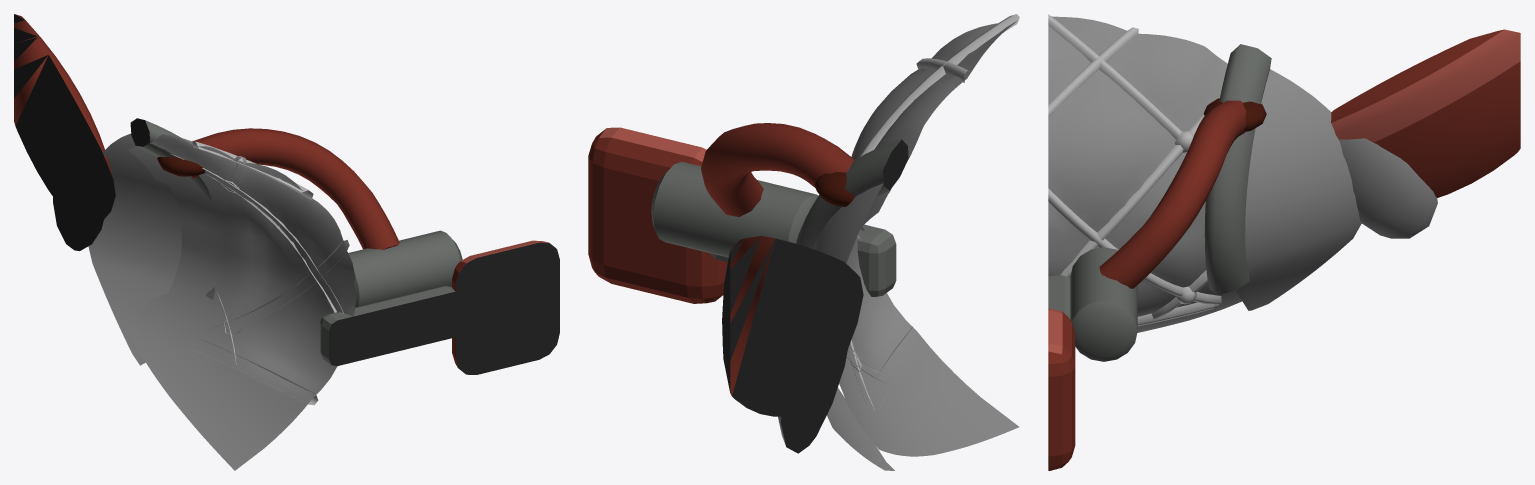
File: zeppelin_45.glb
3 views of the same model, side by side, from view 1: azimuth 30°, elevation 25°; view 2: azimuth 150°, elevation 25°; view 3: azimuth 270°, elevation 25° (orthographic). The views are drawn at different scales.
Parts seen in each view (by area): view 1: envelope.001, gun_mount_r.001, cowl.001, duct.001, gun_hose_r.001, gun_strut_r.001, gun_cap_r.001, duct_boot_r.001, net_ropes.001, cowl_rim.001, gun_hose_collar_r.001; view 2: envelope.001, duct.001, gun_mount_r.001, gun_cap_r.001, gun_hose_r.001, duct_boot_r.001, cowl.001, cowl_rim.001, net_ropes.001, gun_strut_r.001, gun_hose_collar_r.001; view 3: envelope.001, duct.001, cowl.001, gun_hose_r.001, cowl_rim.001, net_ropes.001, duct_boot_r.001, gun_cap_r.001, gun_mount_r.001, gun_strut_r.001, net_load.001, gun_hose_collar_r.001 (+1 smaller).
Boxes of the visible parts, bbox=[...] form: envelope.001: bbox=[128, 134, 355, 470]; gun_mount_r.001: bbox=[452, 240, 559, 374]; cowl.001: bbox=[88, 133, 181, 365]; duct.001: bbox=[14, 14, 115, 226]; gun_hose_r.001: bbox=[191, 128, 399, 249]; gun_strut_r.001: bbox=[320, 286, 462, 366]; gun_cap_r.001: bbox=[348, 230, 462, 307]; duct_boot_r.001: bbox=[53, 135, 108, 251]; net_ropes.001: bbox=[171, 141, 349, 364]; cowl_rim.001: bbox=[130, 118, 214, 299]; gun_hose_collar_r.001: bbox=[157, 157, 205, 176]; envelope.001: bbox=[839, 20, 1019, 456]; duct.001: bbox=[722, 235, 863, 416]; gun_mount_r.001: bbox=[588, 127, 727, 303]; gun_cap_r.001: bbox=[651, 161, 818, 257]; gun_hose_r.001: bbox=[701, 123, 854, 217]; duct_boot_r.001: bbox=[778, 264, 853, 453]; cowl.001: bbox=[812, 183, 894, 470]; cowl_rim.001: bbox=[796, 139, 908, 248]; net_ropes.001: bbox=[846, 14, 1019, 410]; gun_strut_r.001: bbox=[710, 224, 896, 296]; gun_hose_collar_r.001: bbox=[814, 172, 890, 206]; envelope.001: bbox=[1048, 16, 1241, 332]; duct.001: bbox=[1331, 29, 1520, 197]; cowl.001: bbox=[1235, 69, 1361, 310]; gun_hose_r.001: bbox=[1099, 100, 1246, 288]; cowl_rim.001: bbox=[1204, 44, 1271, 295]; net_ropes.001: bbox=[1048, 14, 1221, 319]; duct_boot_r.001: bbox=[1339, 138, 1437, 238]; gun_cap_r.001: bbox=[1070, 247, 1137, 361]; gun_mount_r.001: bbox=[1048, 308, 1075, 470]; gun_strut_r.001: bbox=[1048, 275, 1070, 319]; net_load.001: bbox=[1137, 302, 1215, 326]; gun_hose_collar_r.001: bbox=[1203, 98, 1266, 131].
Size of the model in its own units: 23.8 by 22 by 28.
